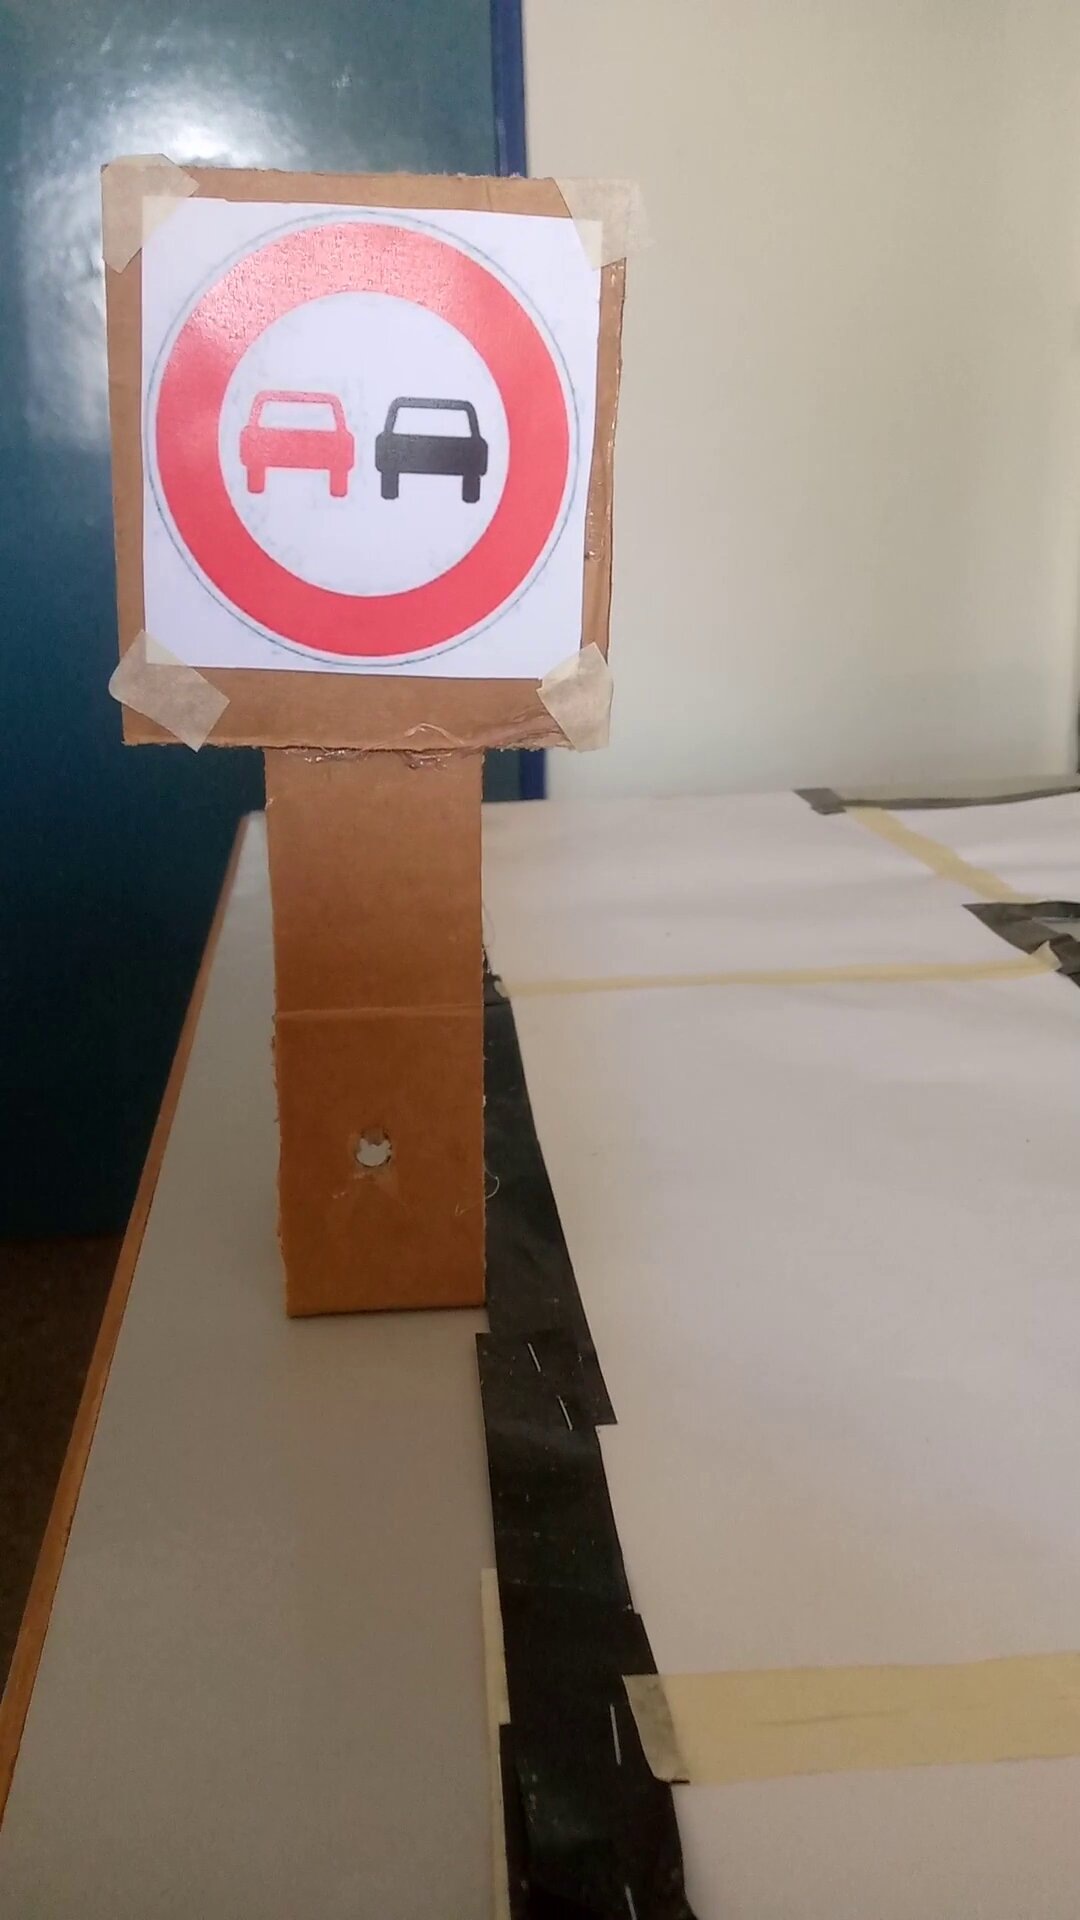panel100: (127, 191, 595, 717)
